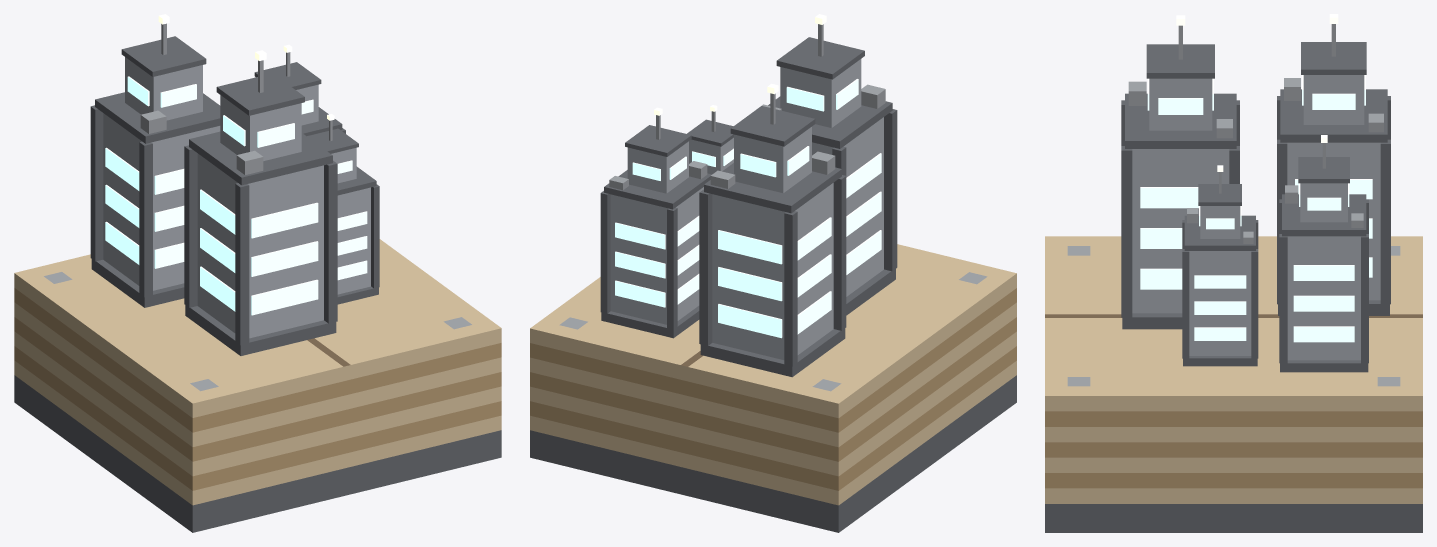
The model's file is PlywoodTile_Center4.fbx.
3 renders of one model, left to right at view 1: azimuth 30°, elevation 25°; view 2: azimuth 150°, elevation 25°; view 3: azimuth 270°, elevation 25°, orthographic. The views are drawn at different scales.
Visible parts, largest first — view 1: PlywoodTile_Center4; view 2: PlywoodTile_Center4; view 3: PlywoodTile_Center4.
Part boxes in pixels (left/top/right/bottom): PlywoodTile_Center4: left=14, top=14, right=501, bottom=532; PlywoodTile_Center4: left=530, top=14, right=1016, bottom=532; PlywoodTile_Center4: left=1045, top=14, right=1422, bottom=532.
Size of the model in its own units: 1 by 1.24 by 1.
